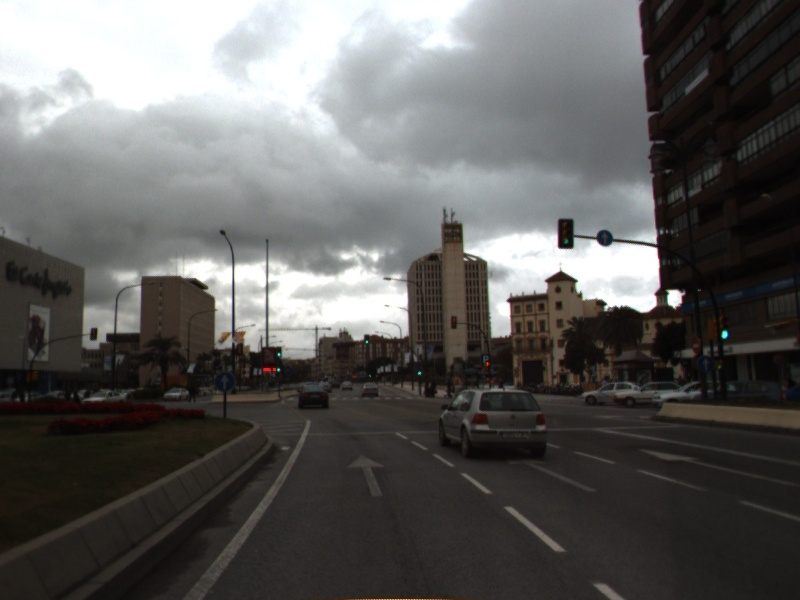STRAIGHT: (636, 446, 800, 489), (507, 456, 600, 494), (345, 452, 387, 499)
